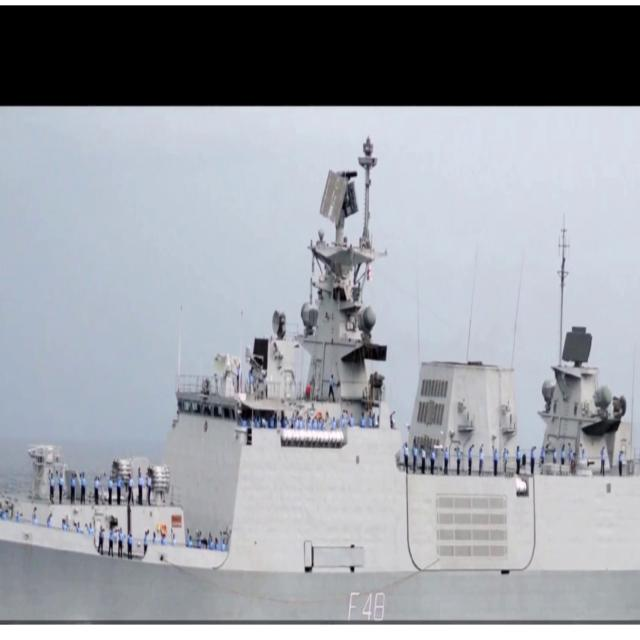OCR: (339, 587, 391, 624)
